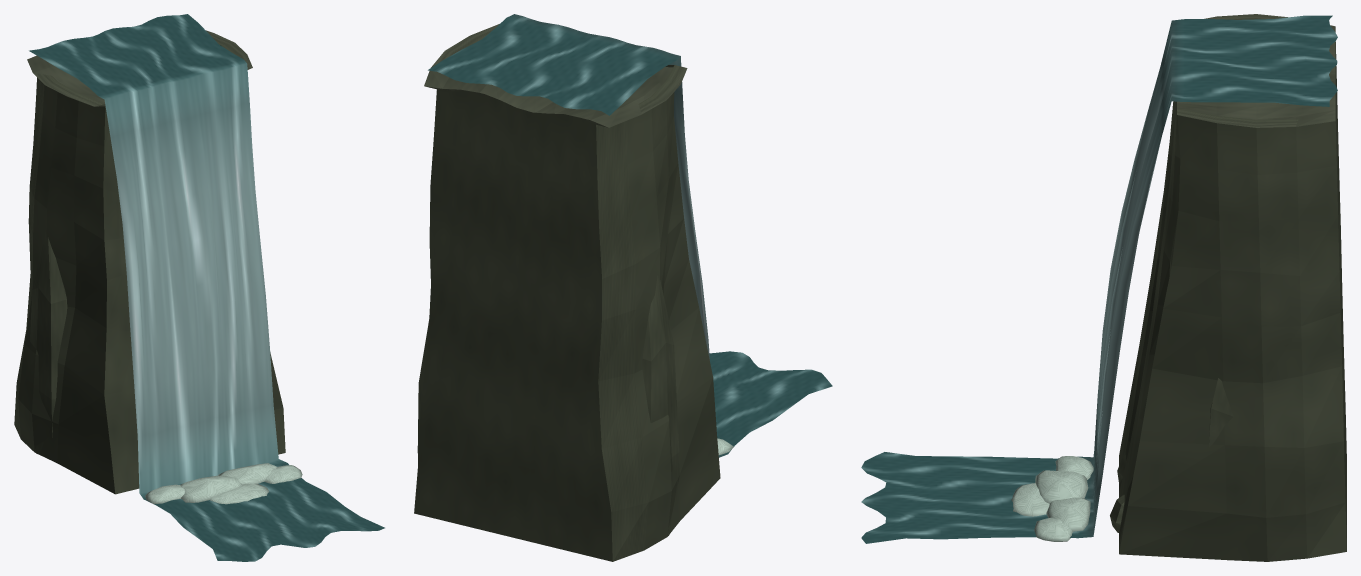
The model's file is fall-wide-lod0.glb.
3 renders of one model, left to right at view 1: azimuth 30°, elevation 25°; view 2: azimuth 150°, elevation 25°; view 3: azimuth 270°, elevation 25°, orthographic. The views are drawn at different scales.
Bounding box in the file's own units: 0.5791 × 1 × 0.993.
1 material, 1 textured.
